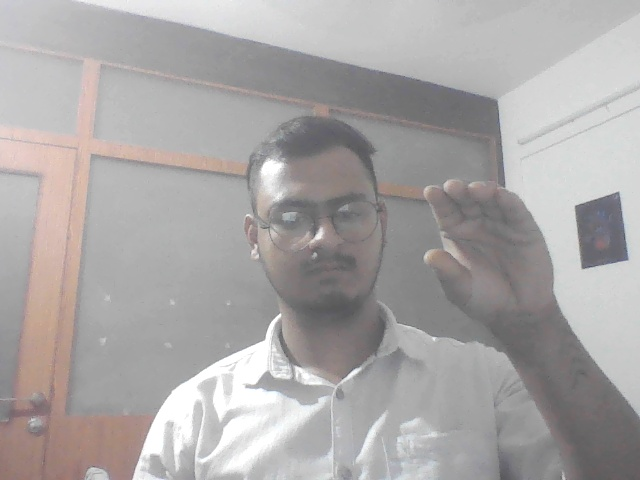NO: (416, 171, 582, 339)
